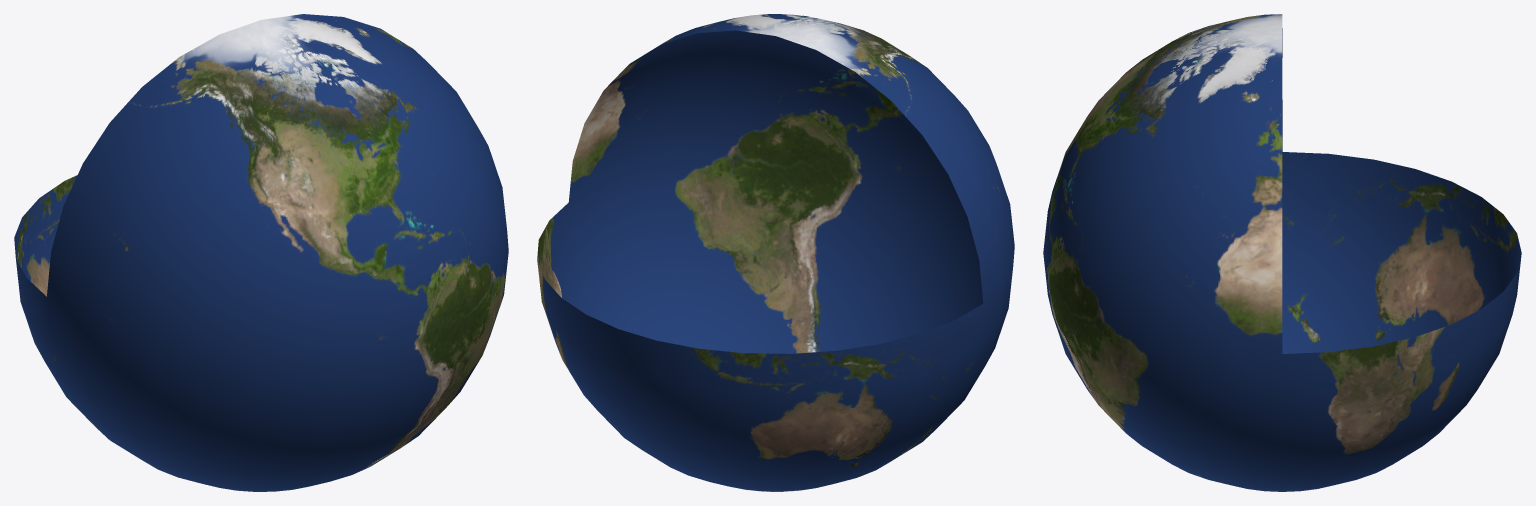
File: PlanetNucleus.fbx
The picture shows the model from 3 angles, left to right: view 1: azimuth 30°, elevation 25°; view 2: azimuth 150°, elevation 25°; view 3: azimuth 270°, elevation 25°; orthographic projection. The views are drawn at different scales.
Visible parts, largest first — view 1: PlanetNucleus; view 2: PlanetNucleus; view 3: PlanetNucleus.
Part boxes in pixels (<box>): PlanetNucleus: <box>14,14,508,491</box>; PlanetNucleus: <box>537,14,1014,491</box>; PlanetNucleus: <box>1043,14,1521,491</box>.
Size of the model in its own units: 2 by 2 by 2.
